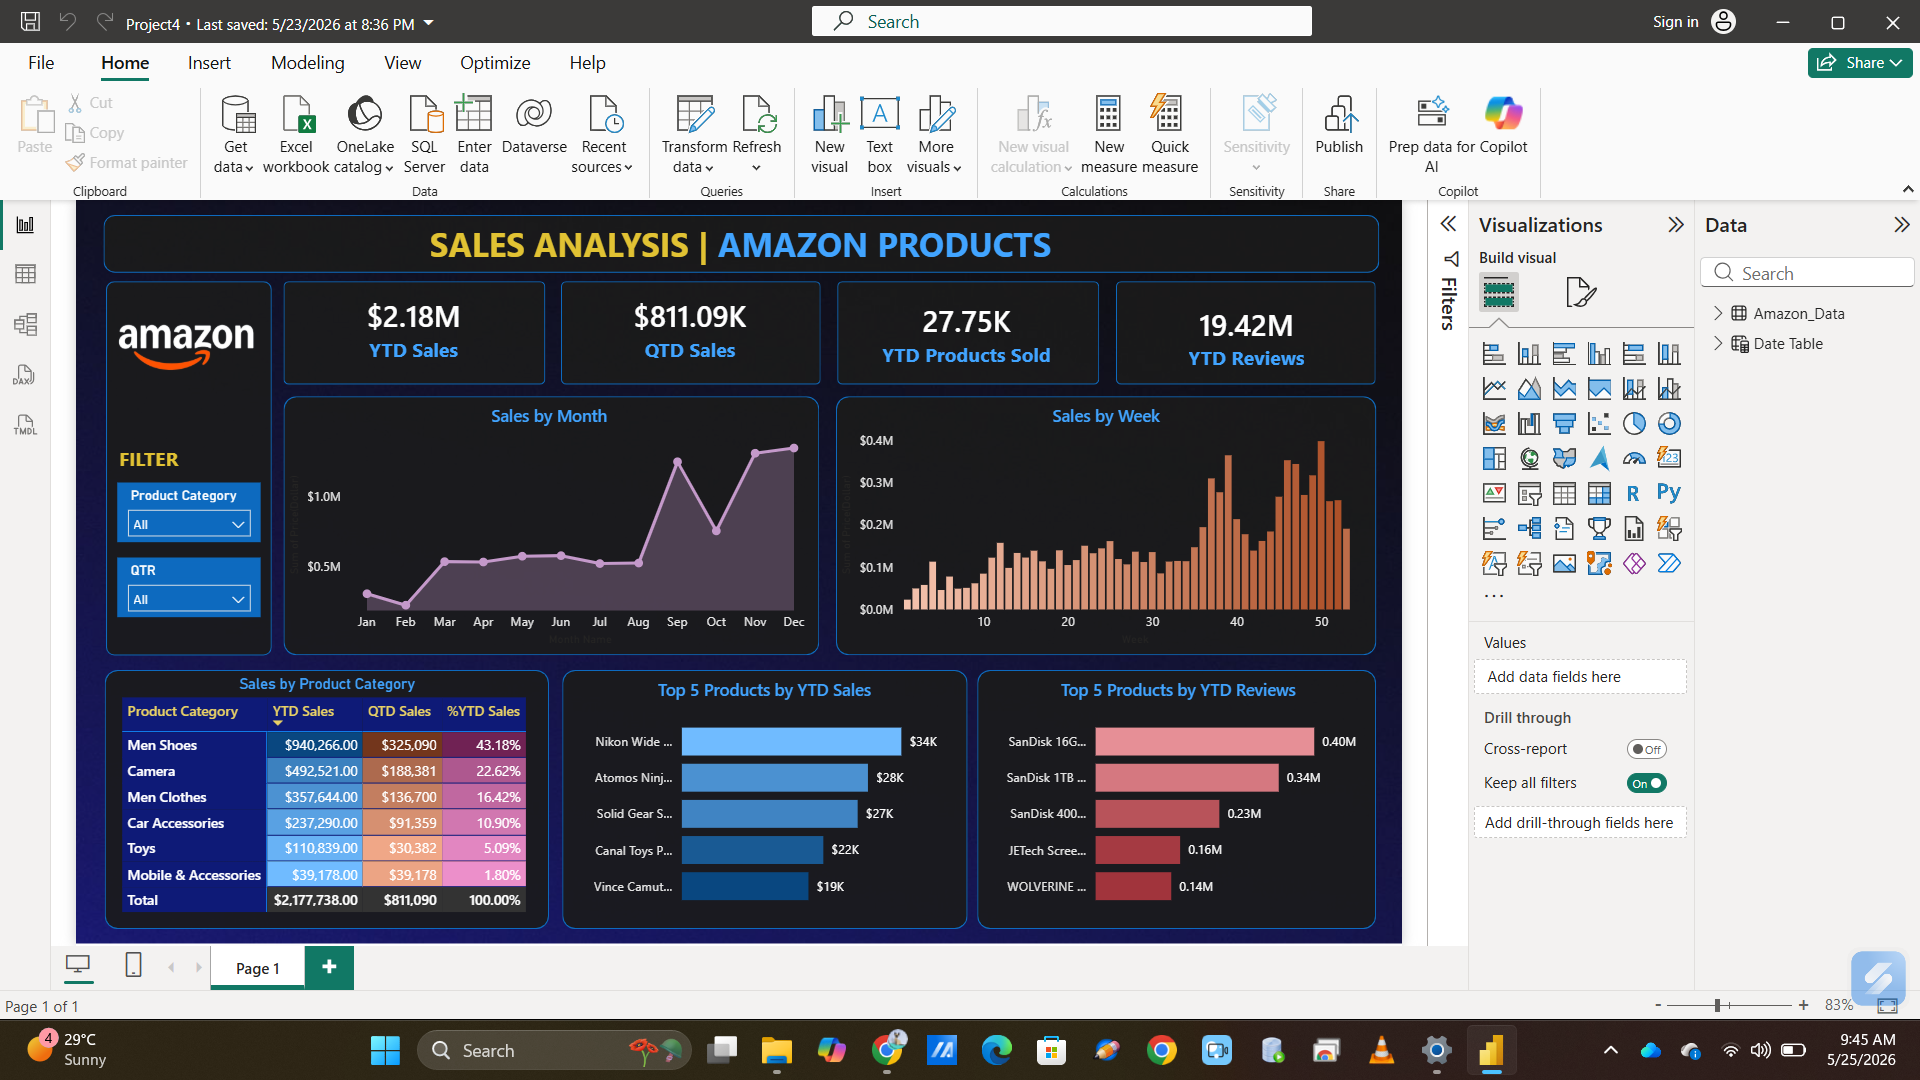

This screenshot's page, from the dashboard's own definition file:
{"tool":"powerbi","page":{"name":"Page 1","canvas":[1280,720],"ordinal":0},"visuals":[{"type":"shape","box":[27.1,14.3,1231.4,55.7],"z":0},{"type":"textbox","box":[306,16,670,54],"z":1000},{"type":"shape","box":[200,78.6,252.6,99.7],"z":2000,"group":"g1"},{"type":"shape","box":[28.8,78.8,160,361.2],"z":4000},{"type":"cardVisual","fields":{"Data":["Amazon_Data.YTD Sales"]},"box":[223.8,78.9,203.1,91.7],"z":4001,"group":"g1"},{"type":"shape","box":[468.2,78.9,250.7,99.7],"z":4004,"group":"g1"},{"type":"shape","box":[734.5,78.9,252.8,99.7],"z":4005,"group":"g1"},{"type":"shape","box":[1002.9,78.9,250.7,99.7],"z":4006,"group":"g1"},{"type":"cardVisual","fields":{"Data":["Amazon_Data.QTD Sales"]},"box":[491.1,78.9,203.1,91.7],"z":4007,"group":"g1"},{"type":"cardVisual","fields":{"Data":["Amazon_Data.YTD Products Sold"]},"box":[733.5,82.9,252.8,91.7],"z":4008,"group":"g1"},{"type":"cardVisual","fields":{"Data":["Amazon_Data.YTD Reviews"]},"box":[1002.9,86.9,252.8,91.7],"z":4009,"group":"g1"},{"type":"group","id":"g1","title":"Group 1","box":[200,78.6,1054.3,100],"z":4010},{"type":"shape","box":[200,190,517.1,250],"z":4011,"group":"g4"},{"type":"areaChart","title":"Sales by Month ","fields":{"Category":["Date Table.Month Name"],"Y":["Sum(Amazon_Data.Price(Dollar))"]},"box":[200,197.1,512.9,238.6],"z":4012,"group":"g4"},{"type":"shape","box":[732.9,190,521.4,250],"z":4013,"group":"g4"},{"type":"columnChart","title":"Sales by Week","fields":{"Category":["Date Table.Week"],"Y":["Sum(Amazon_Data.Price(Dollar))"]},"box":[732.9,197.1,521.4,238.6],"z":4014,"group":"g4"},{"type":"shape","box":[27.5,453.8,428.8,250],"z":4015,"group":"g2"},{"type":"shape","box":[468.7,453.8,391.2,250],"z":4017,"group":"g2"},{"type":"pivotTable","title":"Sales by Product Category","fields":{"Rows":["Amazon_Data.Product Category"],"Values":["Amazon_Data.YTD Sales1","Amazon_Data.QTD Sales","Amazon_Data.YTD Sales"]},"box":[40,458.8,405,245],"z":4019,"group":"g2"},{"type":"shape","box":[870,453.8,385,250],"z":4020,"group":"g2"},{"type":"clusteredBarChart","title":"Top 5 Products by YTD Sales ","fields":{"Category":["Amazon_Data.Product Description"],"Y":["Amazon_Data.YTD Sales"]},"box":[478.7,461.3,371.2,235],"z":4021,"group":"g2"},{"type":"clusteredBarChart","title":"Top 5 Products by YTD Reviews ","fields":{"Category":["Amazon_Data.Product Description"],"Y":["Amazon_Data.YTD Reviews"]},"box":[877.5,461.3,371.2,235],"z":4022,"group":"g2"},{"type":"slicer","fields":{"Values":["Date Table.QTR"]},"box":[40,345,138.8,57.5],"z":4023,"group":"g3"},{"type":"slicer","fields":{"Values":["Amazon_Data.Product Category"]},"box":[40,272.4,138.8,57.5],"z":4024,"group":"g3"},{"type":"textbox","box":[28.8,231.2,82.5,41.2],"z":4025,"group":"g3"},{"type":"image","box":[0,86.2,200,115],"z":4026},{"type":"group","id":"g2","title":"Group 2","box":[27.5,453.8,1227.5,250],"z":4027},{"type":"group","id":"g3","title":"Group 3","box":[28.8,231.2,150,171.2],"z":4028},{"type":"group","id":"g4","title":"Group 4","box":[200,190,1054.3,250],"z":4029}]}

Visuals, with their boxes on the page's 1280x720 design canvas (x1, y1, x2, y2). These are canvas units, not pixel positions in the 1920x1080 screenshot, which may show the page scaled, cropped or inside an application window:
shape: l=27, t=14, r=1258, b=70
textbox: l=306, t=16, r=976, b=70
shape: l=200, t=79, r=453, b=178
shape: l=29, t=79, r=189, b=440
cardVisual - Amazon_Data.YTD Sales: l=224, t=79, r=427, b=171
shape: l=468, t=79, r=719, b=179
shape: l=734, t=79, r=987, b=179
shape: l=1003, t=79, r=1254, b=179
cardVisual - Amazon_Data.QTD Sales: l=491, t=79, r=694, b=171
cardVisual - Amazon_Data.YTD Products Sold: l=734, t=83, r=986, b=175
cardVisual - Amazon_Data.YTD Reviews: l=1003, t=87, r=1256, b=179
"Group 1" group: l=200, t=79, r=1254, b=179
shape: l=200, t=190, r=717, b=440
"Sales by Month " areaChart: l=200, t=197, r=713, b=436
shape: l=733, t=190, r=1254, b=440
"Sales by Week" columnChart: l=733, t=197, r=1254, b=436
shape: l=28, t=454, r=456, b=704
shape: l=469, t=454, r=860, b=704
"Sales by Product Category" pivotTable: l=40, t=459, r=445, b=704
shape: l=870, t=454, r=1255, b=704
"Top 5 Products by YTD Sales " clusteredBarChart: l=479, t=461, r=850, b=696
"Top 5 Products by YTD Reviews " clusteredBarChart: l=878, t=461, r=1249, b=696
slicer - Date Table.QTR: l=40, t=345, r=179, b=402
slicer - Amazon_Data.Product Category: l=40, t=272, r=179, b=330
textbox: l=29, t=231, r=111, b=272
image: l=0, t=86, r=200, b=201
"Group 2" group: l=28, t=454, r=1255, b=704
"Group 3" group: l=29, t=231, r=179, b=402
"Group 4" group: l=200, t=190, r=1254, b=440
